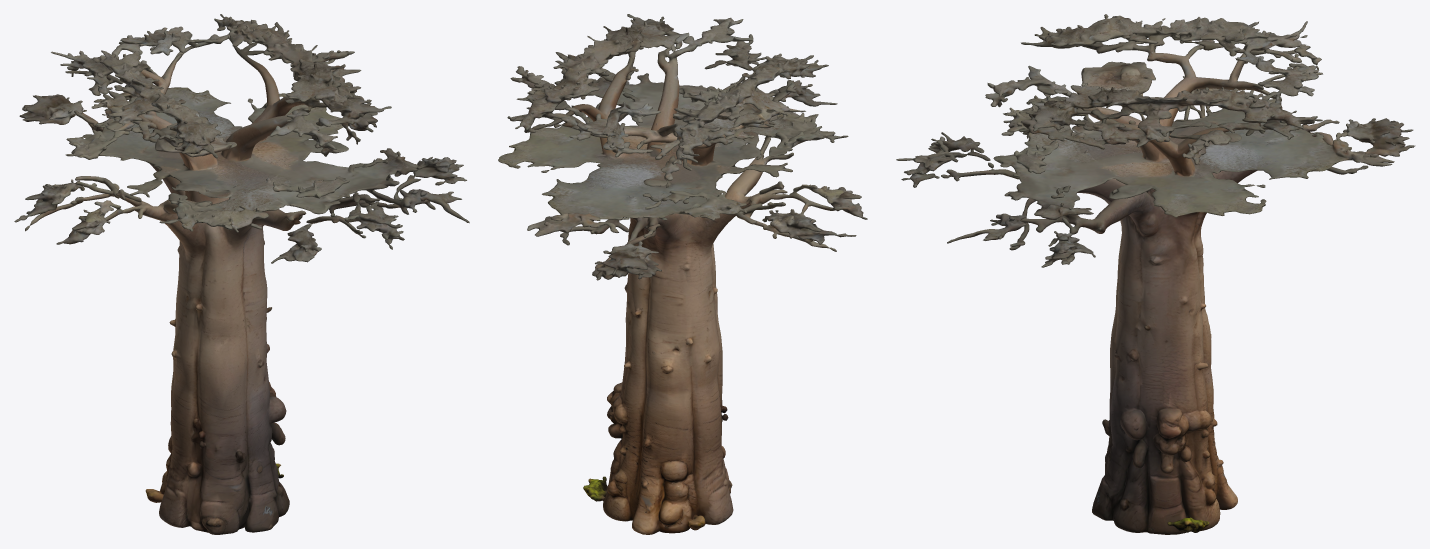
File: nature-baobab.glb
The picture shows the model from 3 angles, left to right: view 1: azimuth 30°, elevation 25°; view 2: azimuth 150°, elevation 25°; view 3: azimuth 270°, elevation 25°; orthographic projection. The views are drawn at different scales.
Parts seen in each view (by area): view 1: tripo_node_c8459701-5184-4195-b508-a0327e1b8133; view 2: tripo_node_c8459701-5184-4195-b508-a0327e1b8133; view 3: tripo_node_c8459701-5184-4195-b508-a0327e1b8133.
Part boxes in pixels (box(x1,y1,x2,y2)): tripo_node_c8459701-5184-4195-b508-a0327e1b8133: box(14, 14, 469, 534); tripo_node_c8459701-5184-4195-b508-a0327e1b8133: box(498, 14, 867, 534); tripo_node_c8459701-5184-4195-b508-a0327e1b8133: box(896, 14, 1415, 534).
Size of the model in its own units: 10.93 by 12 by 12.38.
Materials: 1 (1 with a texture image).
